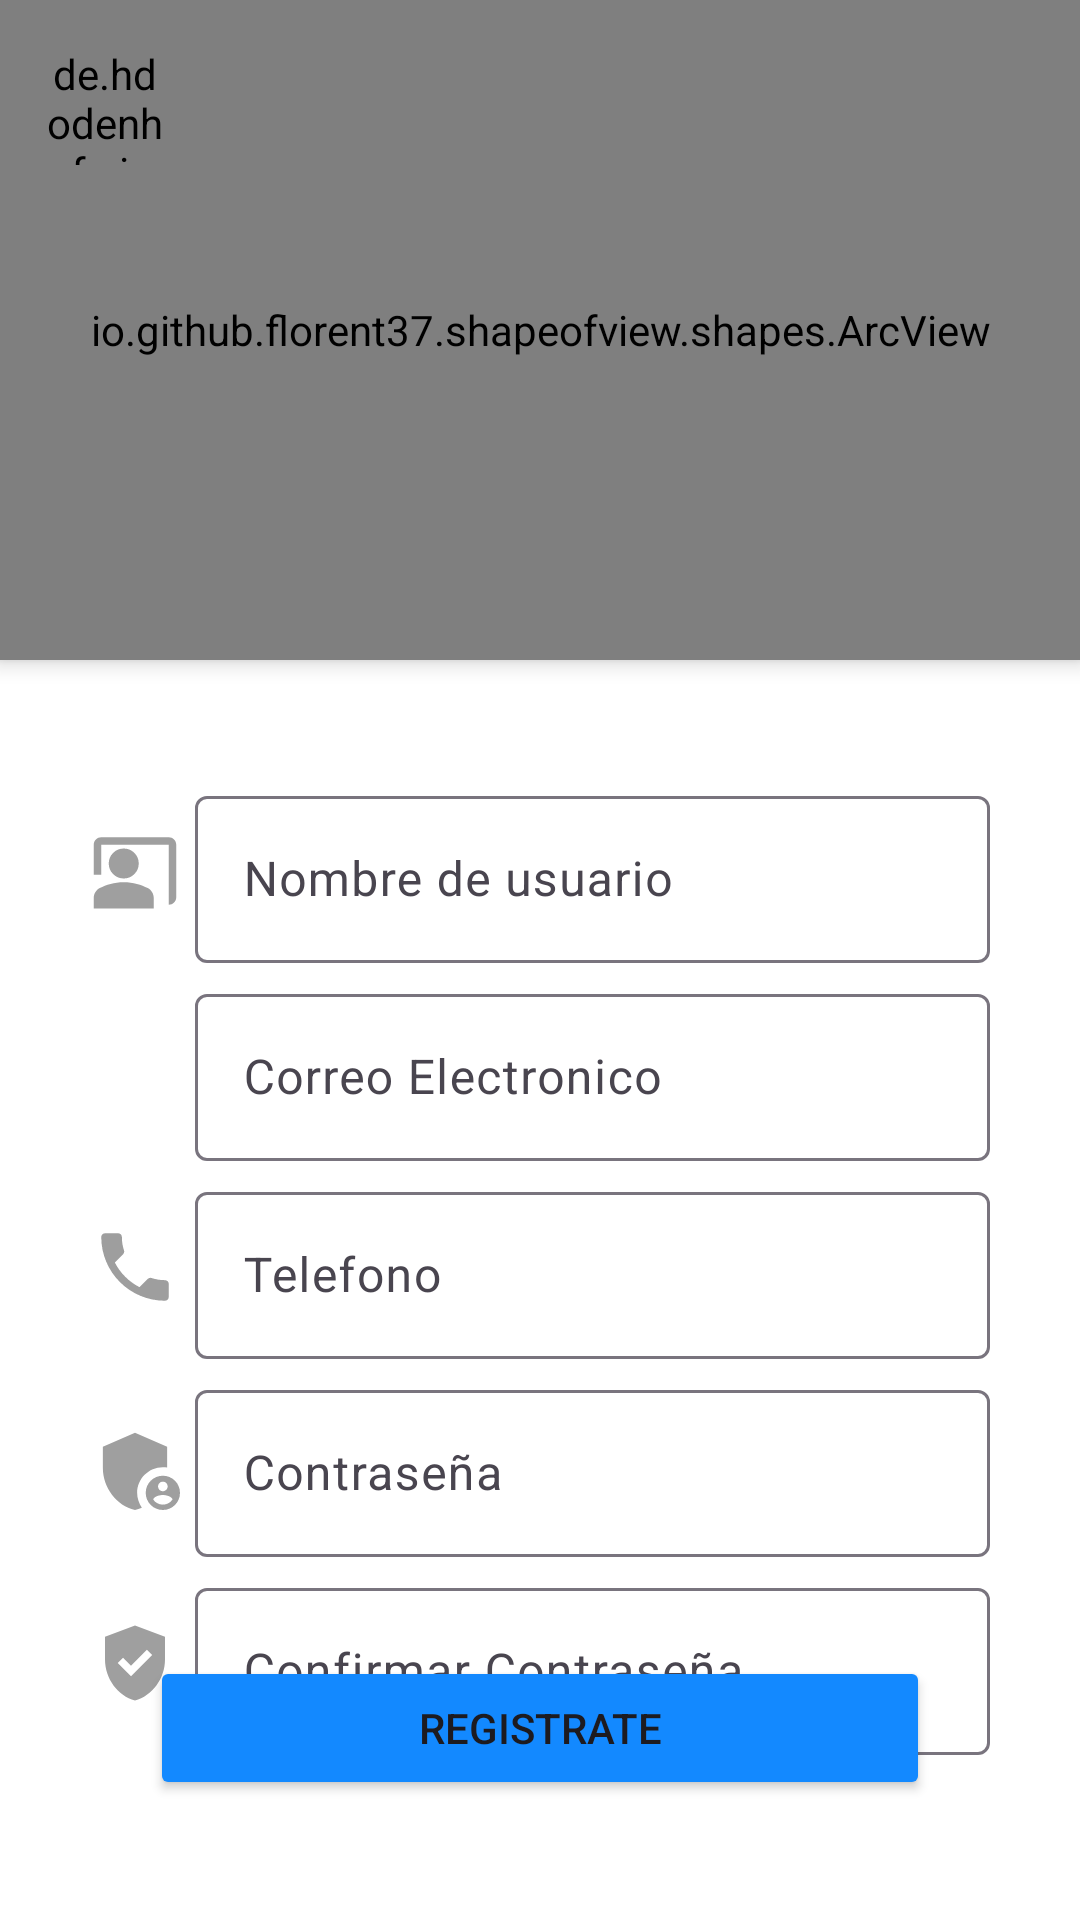

Screen size 1080 x 1920. Icon name, then its center in pixels as [x,y]:
password ok: [142,1666]
person pin: [135,873]
phone: [135,1267]
